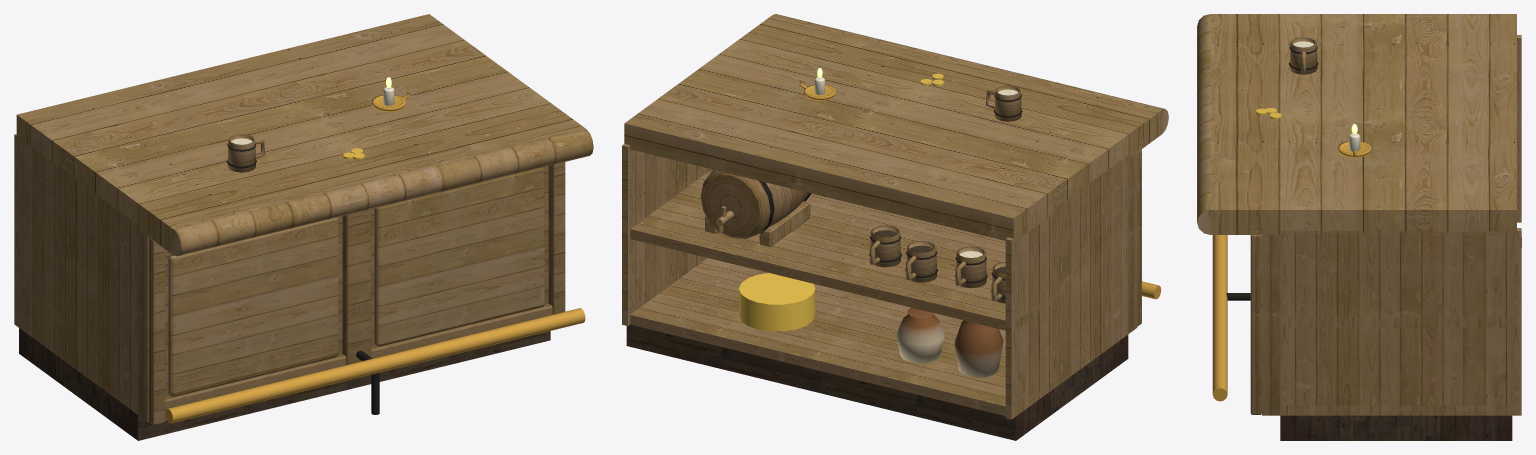
Rendered from prop_tavernCounter.glb.
The picture shows the model from 3 angles, left to right: view 1: azimuth 30°, elevation 25°; view 2: azimuth 150°, elevation 25°; view 3: azimuth 270°, elevation 25°; orthographic projection. The views are drawn at different scales.
Visible parts, largest first — view 1: prop; view 2: prop; view 3: prop.
Part boxes in pixels (<box>): prop: <box>14,14,593,440</box>; prop: <box>622,14,1168,440</box>; prop: <box>1197,14,1521,440</box>.
Size of what is drawn, in the model's own units: 1 by 0.615 by 0.701.
13 materials, 5 textured.
